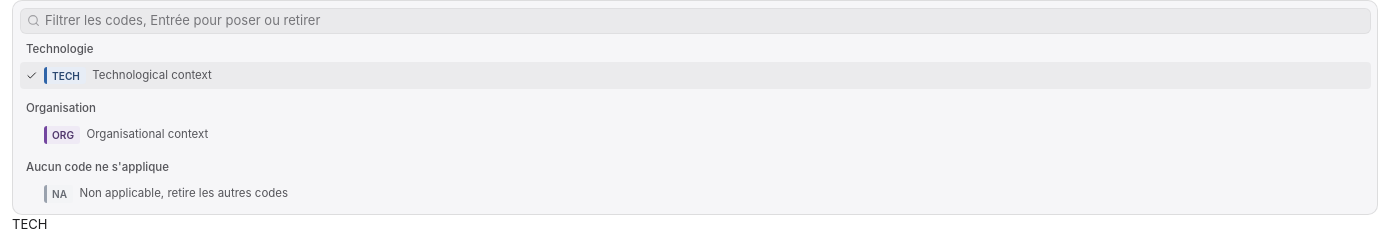
Scenario: CodePicker › toggles codes and keeps NA exclusive
Click the text "ORG".
click(62, 135)  # box [44,126,80,144]
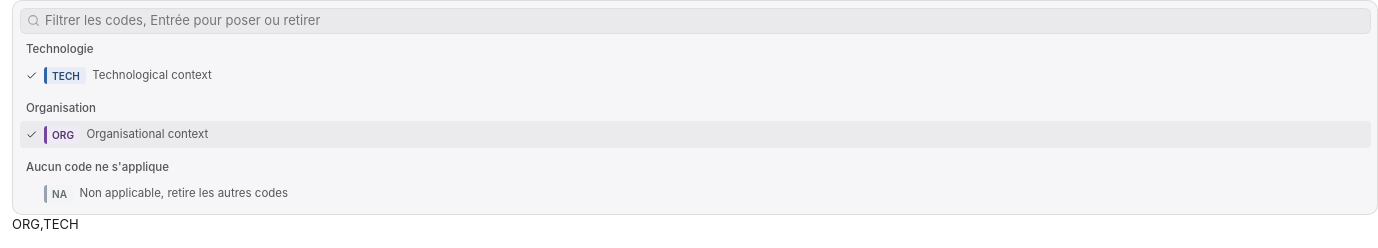
Expected: the text with test id "value" reads "ORG,TECH", [12,216,79,232]
Click the text "NA".
click(58, 194)  # box [44,185,73,202]
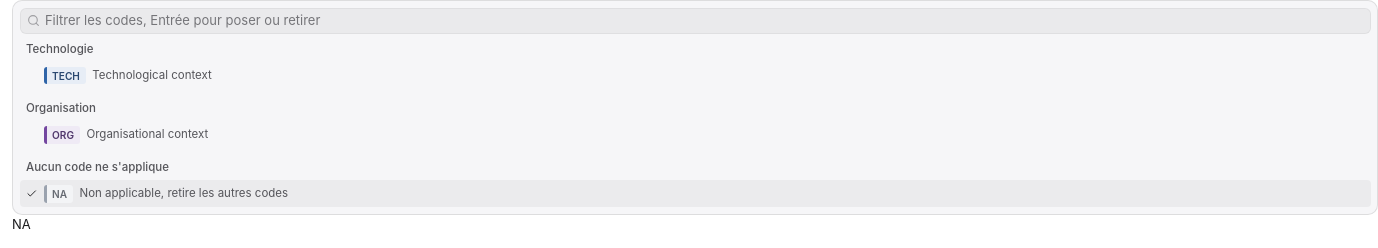
Expected: the text with test id "value" reads "NA", [12,216,31,232]
